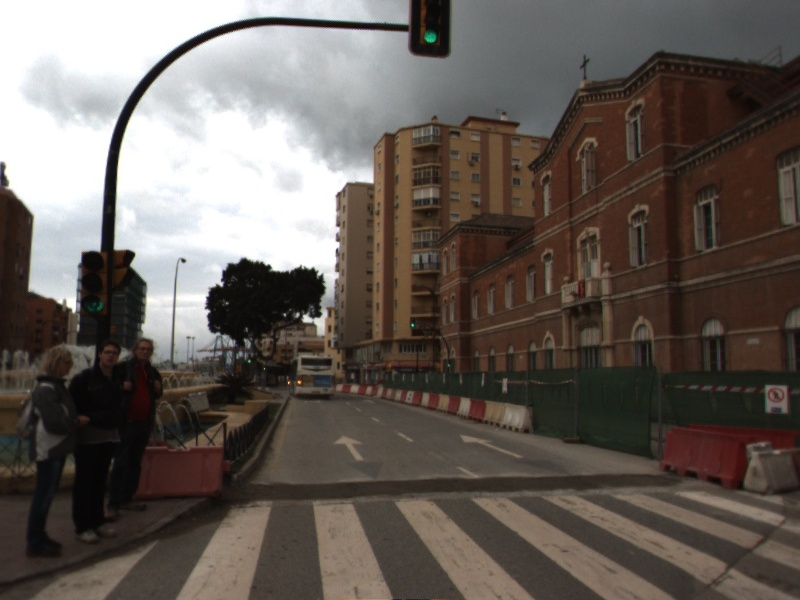STRAIGHT: (458, 432, 526, 460), (331, 433, 367, 463)
